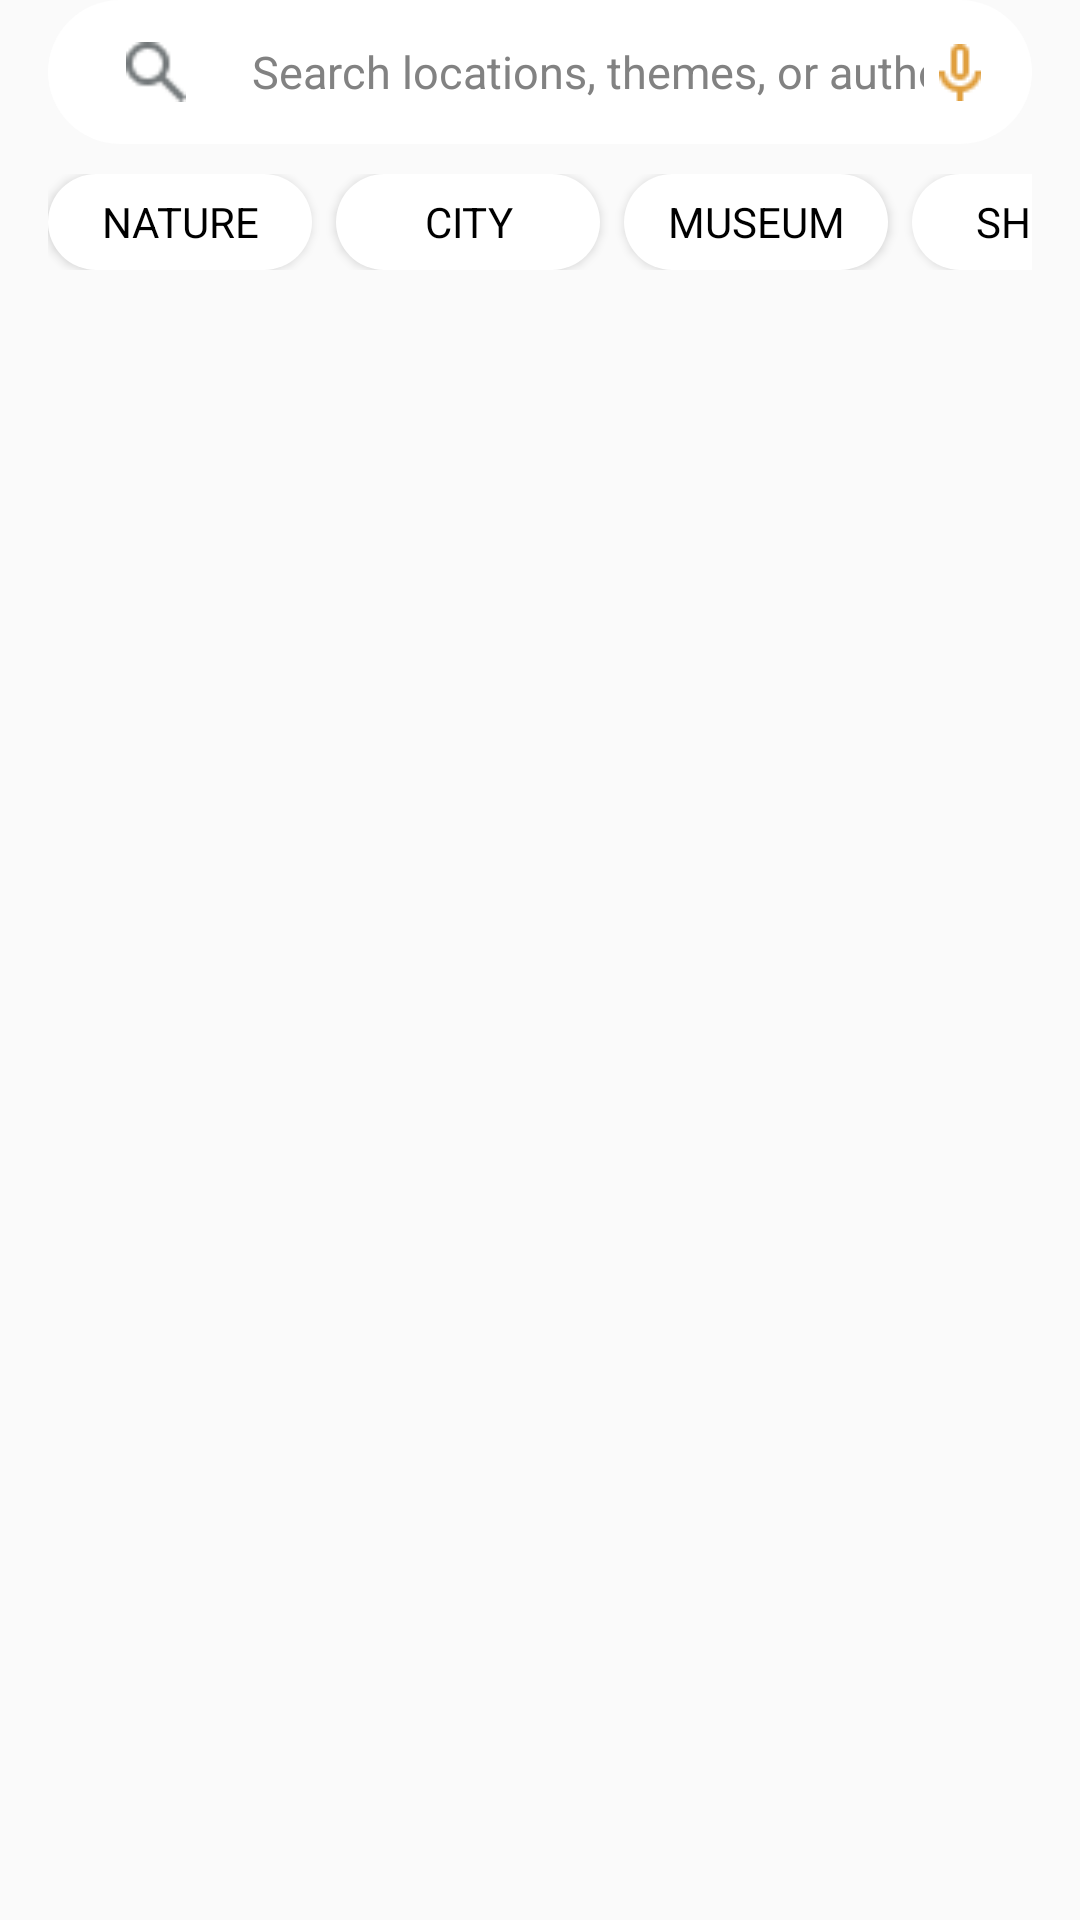

Screen size 1080w x 1920h. Icon name, then its box in pixels as (left=x1, top=y1, right=x2, bottom=y2):
Voice search: (left=939, top=44, right=981, bottom=101)
